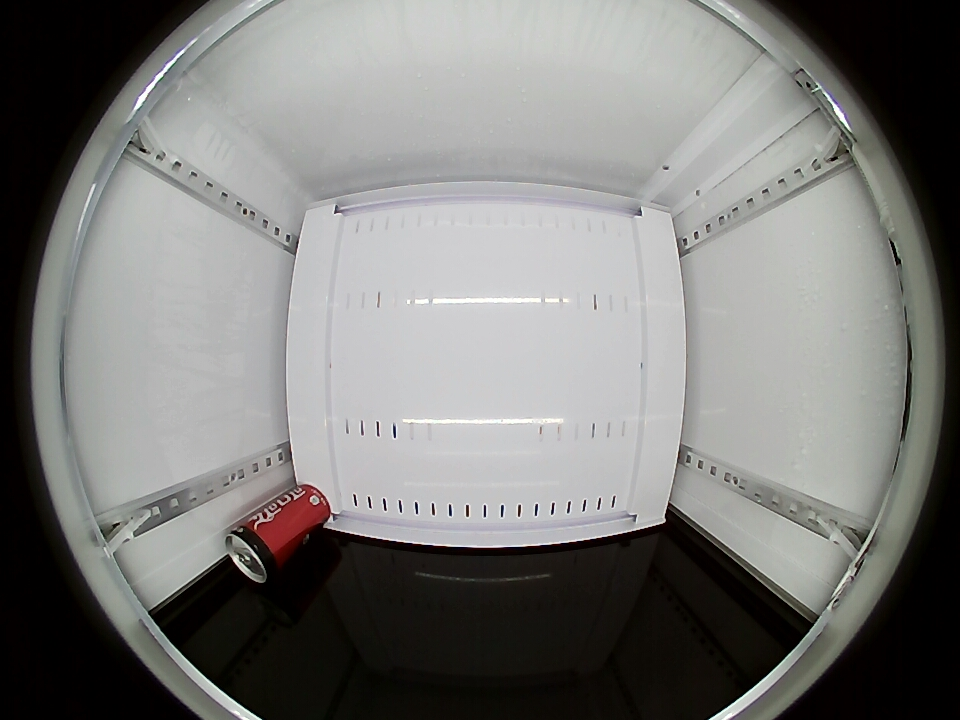lingdukele: (225, 520, 284, 583)
